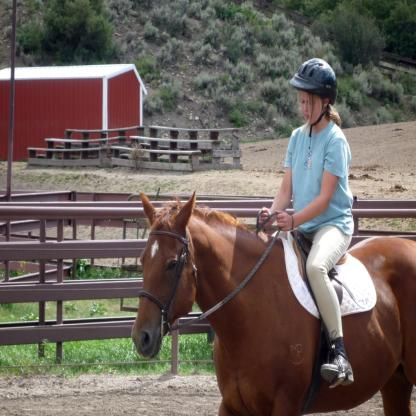Helmet: (289, 57, 340, 131)
